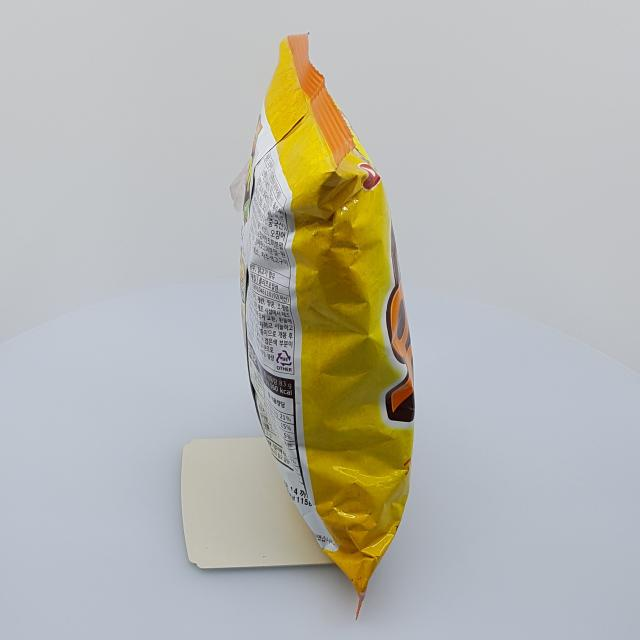-83G: (240, 33, 416, 622)
